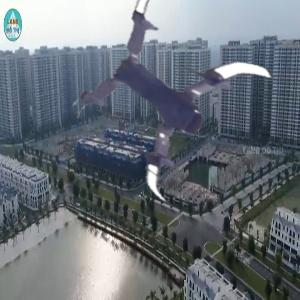drone: (79, 9, 273, 203)
